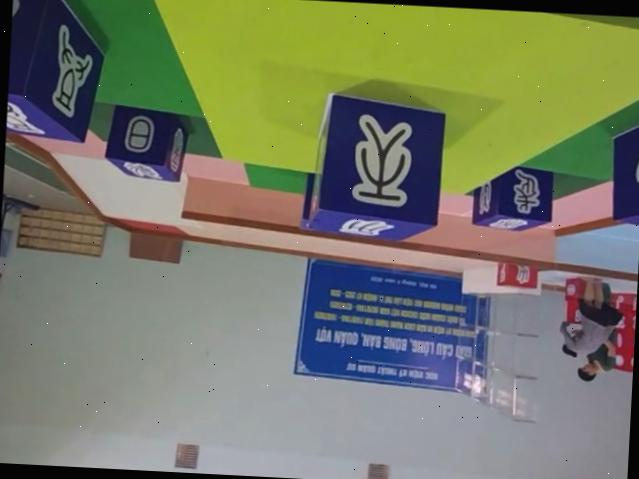R2 Fake Blue: (303, 92, 445, 243), (101, 102, 188, 181), (471, 163, 553, 233)
R2 Real Blue: (5, 0, 110, 142)
